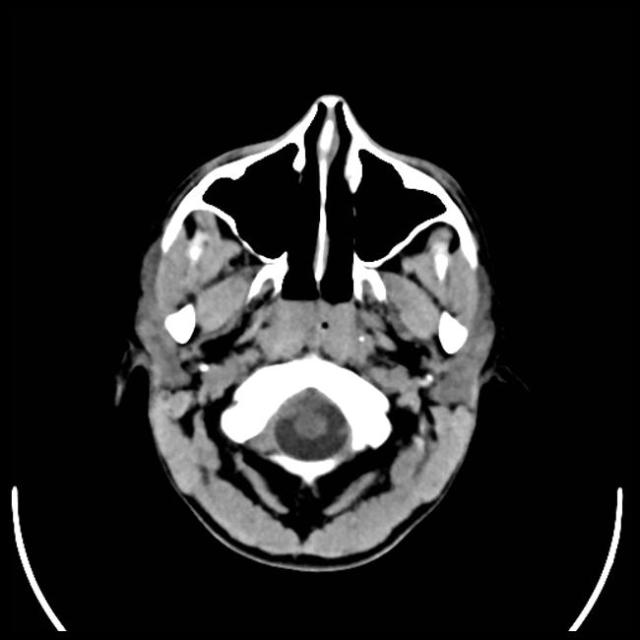lesion: (115, 90, 504, 574)
